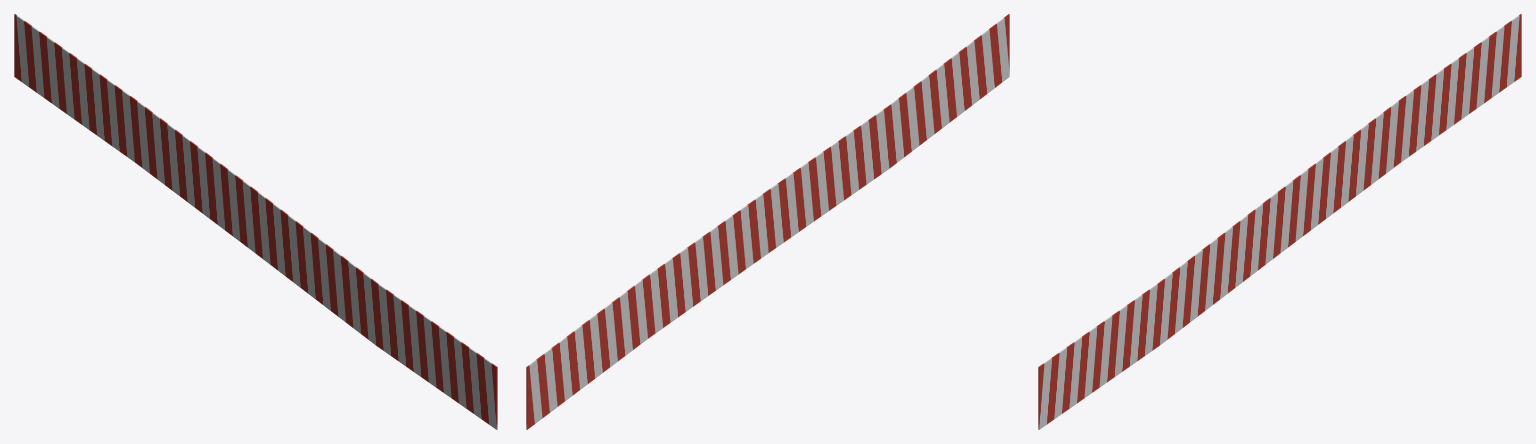
Rendered from Absperrung.fbx.
The picture shows the model from 3 angles, left to right: view 1: azimuth 30°, elevation 25°; view 2: azimuth 150°, elevation 25°; view 3: azimuth 330°, elevation 25°; orthographic projection.
Parts seen in each view (by area): view 1: Absperrung; view 2: Absperrung; view 3: Absperrung.
Boxes of the visible parts, left/top/right/bottom form: Absperrung: left=14, top=14, right=497, bottom=429; Absperrung: left=526, top=14, right=1009, bottom=429; Absperrung: left=1038, top=14, right=1521, bottom=429.
Size of the model in its own units: 0.2709 by 15.82 by 200.
